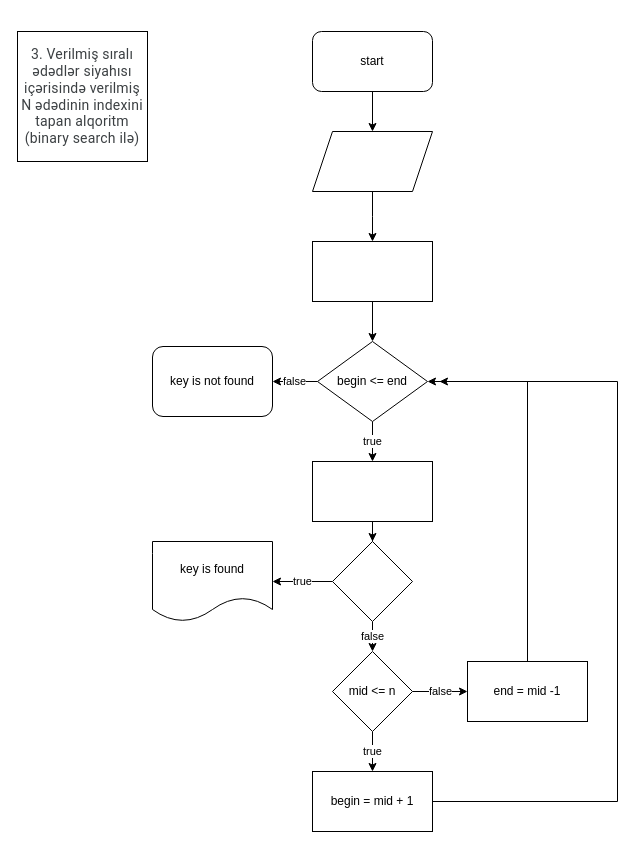
Some shapes in this 643 by 849 pixel diagram are drawn without their labels. The shapes that lost their labels are listed below. From the top down, each one's centre as x and y in pixels, then its label:
(372,161): arr n mid
(372,271): end = arr.length begin = 0
(372,491): mid = ((begin + end)- (begin + end)%2)/2
(372,581): arr[mid]==n
